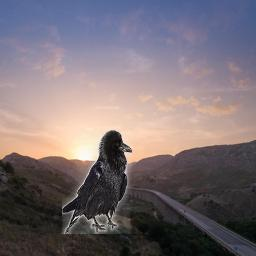Crow: (62, 130, 132, 234)
